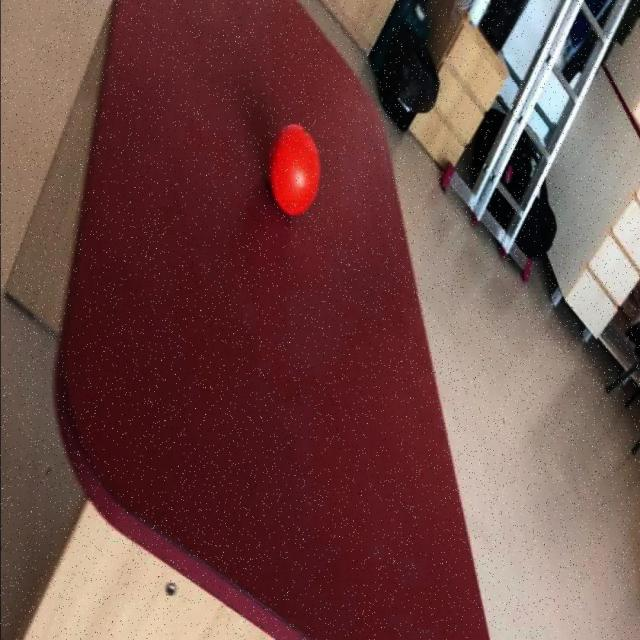Orange: (268, 124, 321, 218)
